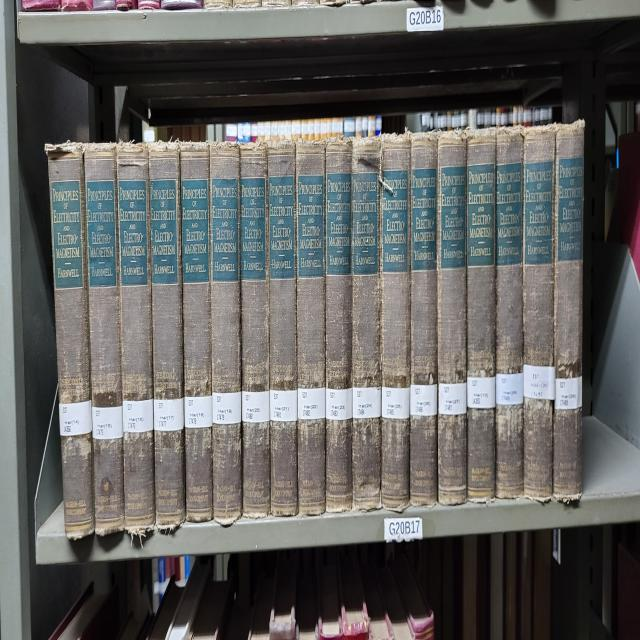Book: (45, 141, 95, 538), (84, 143, 125, 536), (116, 143, 155, 538), (149, 143, 186, 530), (210, 143, 242, 525), (552, 119, 584, 501), (180, 143, 212, 522), (524, 127, 555, 501), (381, 133, 411, 511), (240, 143, 270, 519), (268, 141, 298, 517), (296, 143, 326, 517), (352, 138, 381, 511), (495, 127, 524, 498), (410, 133, 438, 506), (438, 130, 466, 503), (468, 130, 496, 501), (325, 141, 352, 511)
Label: (59, 400, 92, 436), (122, 398, 154, 433), (524, 365, 555, 400), (92, 406, 122, 438), (154, 398, 184, 430), (212, 392, 241, 425), (241, 390, 270, 422), (352, 387, 381, 419), (381, 387, 410, 419), (410, 384, 438, 417), (496, 373, 524, 406), (184, 395, 212, 427), (270, 390, 298, 422), (439, 381, 466, 414), (468, 376, 495, 409), (555, 376, 582, 409), (298, 387, 325, 419), (326, 387, 352, 419)
